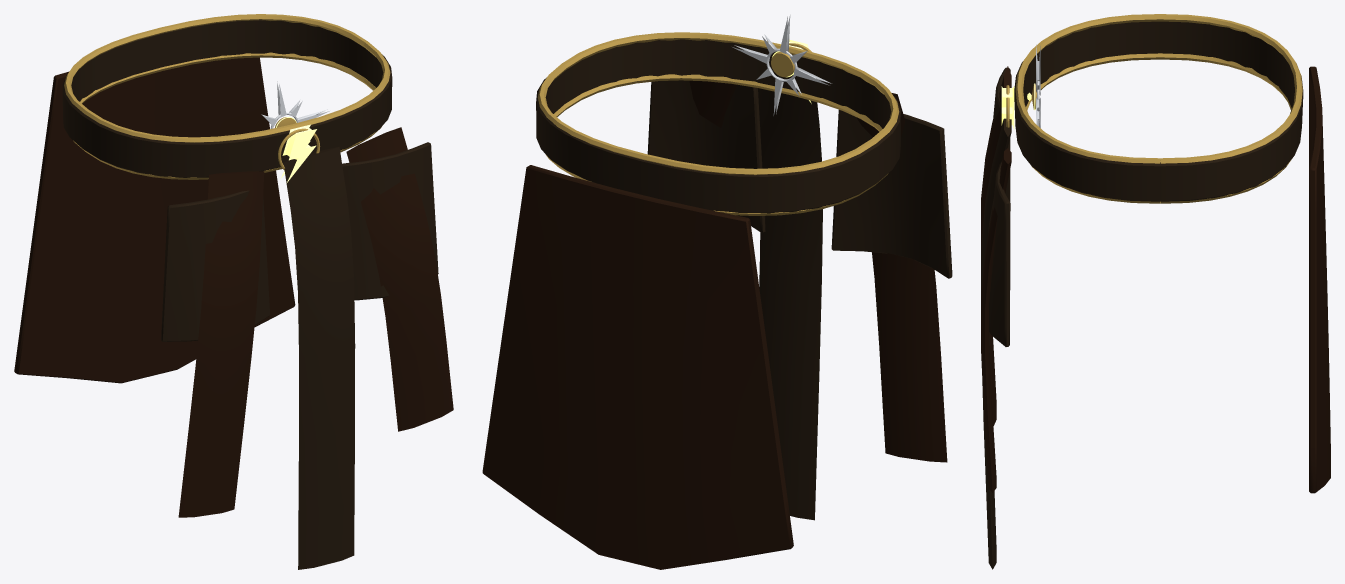
File: esc_last_arrow_inner.glb
3 views of the same model, side by side, from view 1: azimuth 30°, elevation 25°; view 2: azimuth 150°, elevation 25°; view 3: azimuth 270°, elevation 25° (orthographic). The views are drawn at different scales.
Visible parts, largest first — view 1: esc_last_arrow_inner, AT_thigh_R, AT_thigh_L; view 2: esc_last_arrow_inner, AT_thigh_R, AT_thigh_L; view 3: esc_last_arrow_inner, AT_thigh_L.
Part boxes in pixels (x1,y1,x2,y2): esc_last_arrow_inner: [14, 14, 453, 569]; AT_thigh_R: [161, 190, 269, 341]; AT_thigh_L: [342, 142, 438, 300]; esc_last_arrow_inner: [482, 15, 947, 569]; AT_thigh_R: [831, 110, 952, 278]; AT_thigh_L: [647, 80, 765, 233]; esc_last_arrow_inner: [981, 14, 1330, 569]; AT_thigh_L: [989, 160, 1010, 346].
Bounding box in the file's own units: 0.4686 × 0.7229 × 0.4593.
